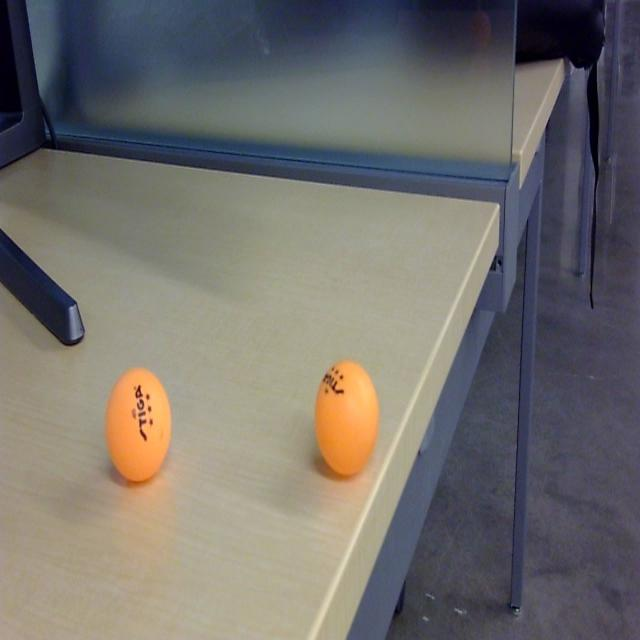ball: (312, 358, 380, 480), (104, 368, 173, 488)
